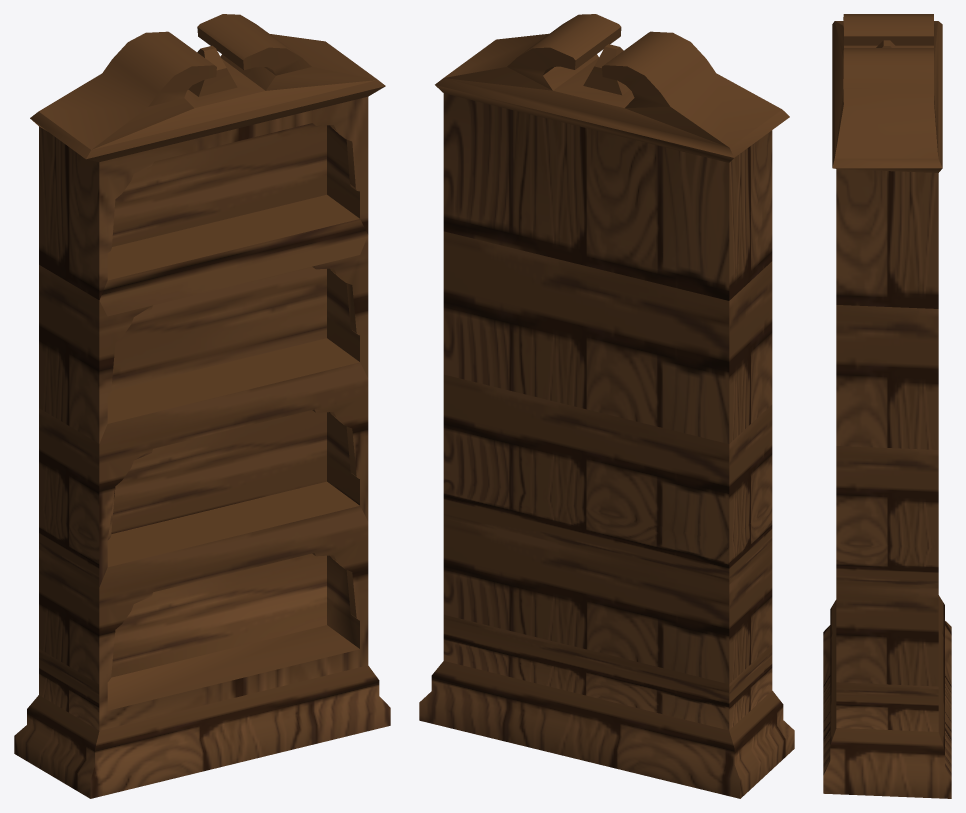
The model's file is Shelves.fbx.
The picture shows the model from 3 angles, left to right: view 1: azimuth 30°, elevation 25°; view 2: azimuth 150°, elevation 25°; view 3: azimuth 270°, elevation 25°; orthographic projection.
Visible parts, largest first — view 1: Bookshelf - Fixed; view 2: Bookshelf - Fixed; view 3: Bookshelf - Fixed.
Part boxes in pixels (x1,y1,x2,y2): Bookshelf - Fixed: (14, 14, 390, 798); Bookshelf - Fixed: (419, 14, 794, 798); Bookshelf - Fixed: (823, 14, 951, 798).
Bounding box in the file's own units: 150 × 310 × 52.68.
1 material, 1 textured.
